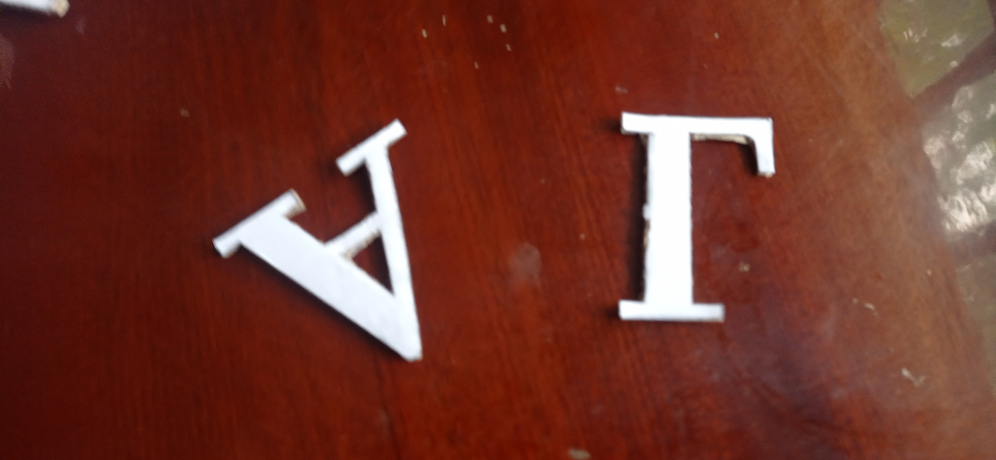a: (208, 117, 426, 363)
g: (616, 108, 777, 322)
